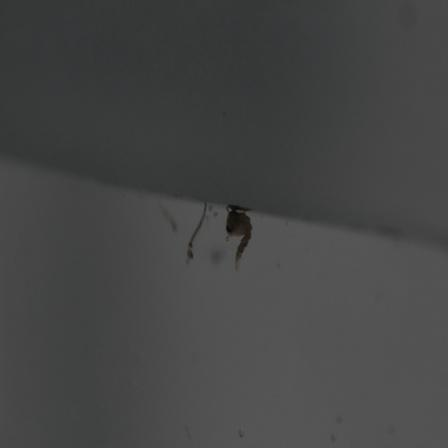Jentik-Nyamuk: (222, 206, 258, 272), (182, 197, 211, 265)
